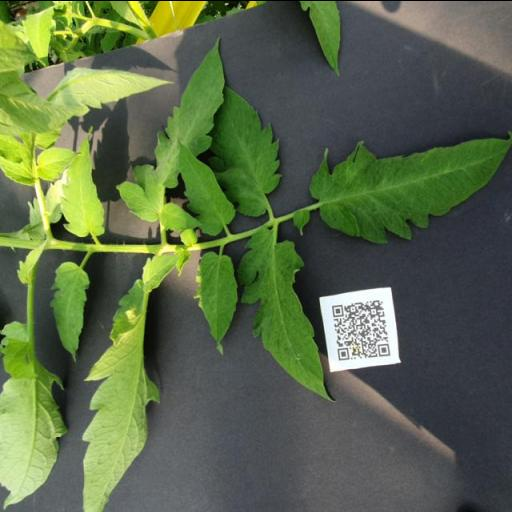Healthy: (309, 128, 512, 244), (113, 35, 225, 232), (236, 224, 336, 400), (208, 84, 284, 216), (176, 137, 236, 235), (60, 125, 107, 237), (193, 248, 239, 356), (50, 260, 92, 362)
